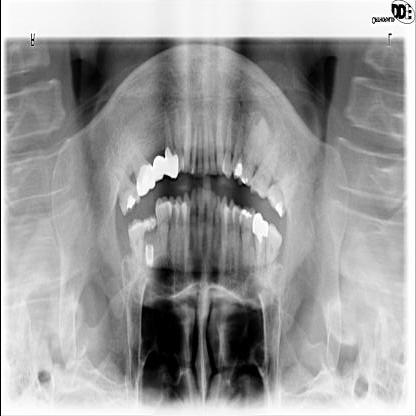Bicon: (145, 244, 155, 268)
